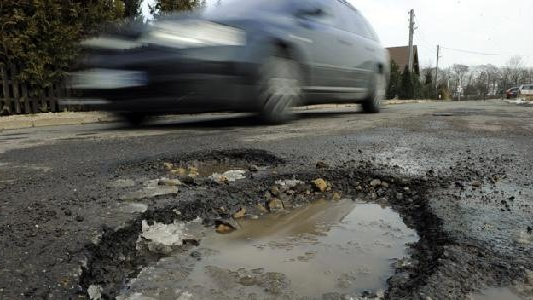pothole: (68, 162, 451, 299), (110, 146, 285, 188)
